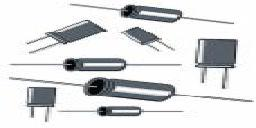Electrolytic-Capacitor: (8, 55, 186, 74), (97, 2, 232, 26), (193, 33, 246, 89), (21, 20, 110, 51), (56, 105, 188, 121), (119, 25, 170, 57), (23, 85, 54, 125)
